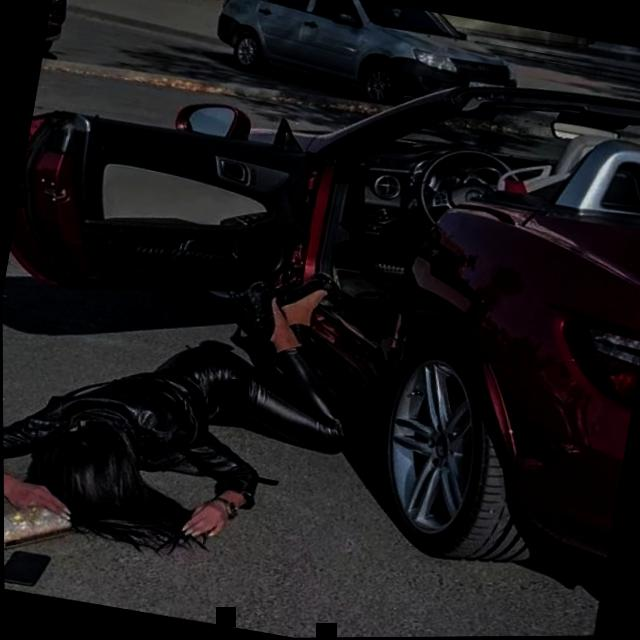Fall-Detected: (1, 208, 387, 597)
